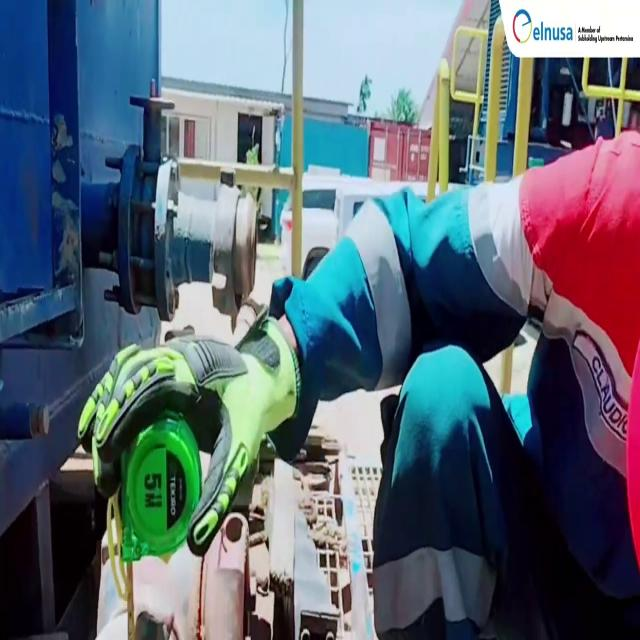Gloves: (78, 312, 297, 560)
Overall Suit: (282, 133, 640, 640)
